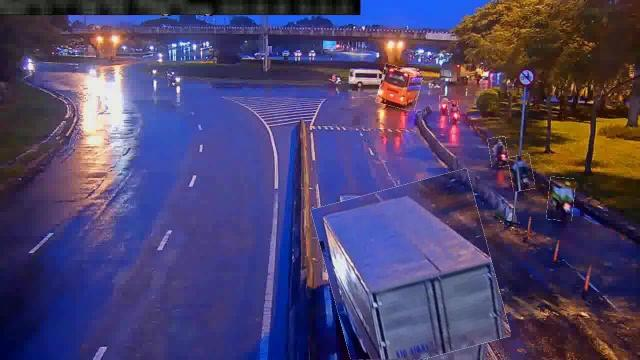Bike: (548, 178, 574, 221), (510, 154, 534, 192), (488, 137, 508, 167), (448, 101, 459, 123), (440, 95, 446, 112)
Bus: (378, 66, 422, 109)
Truck: (320, 177, 502, 359)
